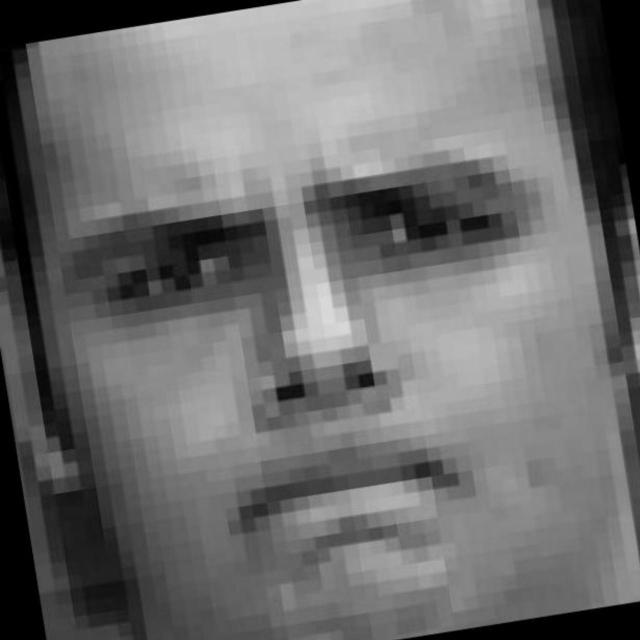angry: (3, 63, 640, 590)
